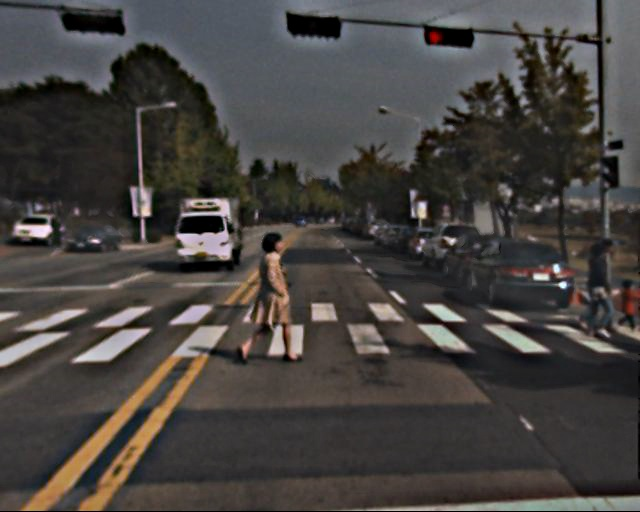person: (242, 232, 296, 364), (576, 244, 616, 342), (619, 280, 640, 331), (50, 215, 63, 247)
